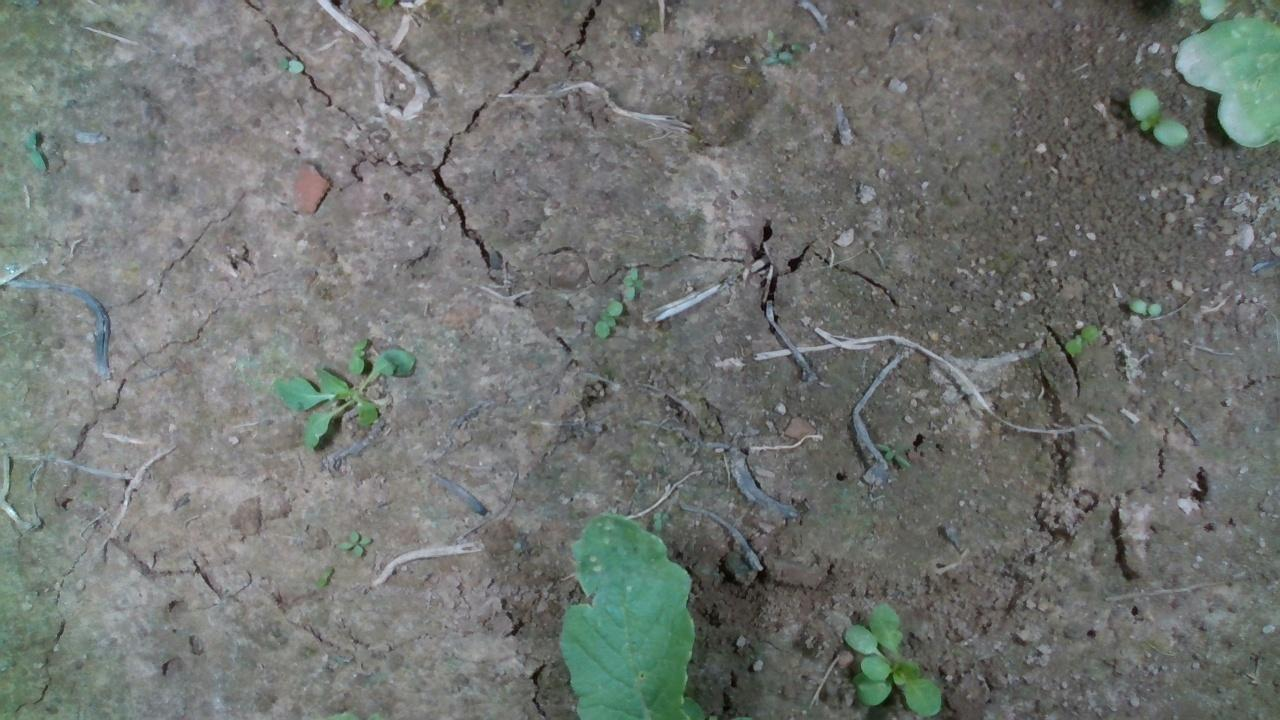weed: (1128, 86, 1188, 145), (1062, 320, 1098, 356), (593, 298, 622, 339), (336, 529, 372, 557), (1128, 298, 1162, 317)
